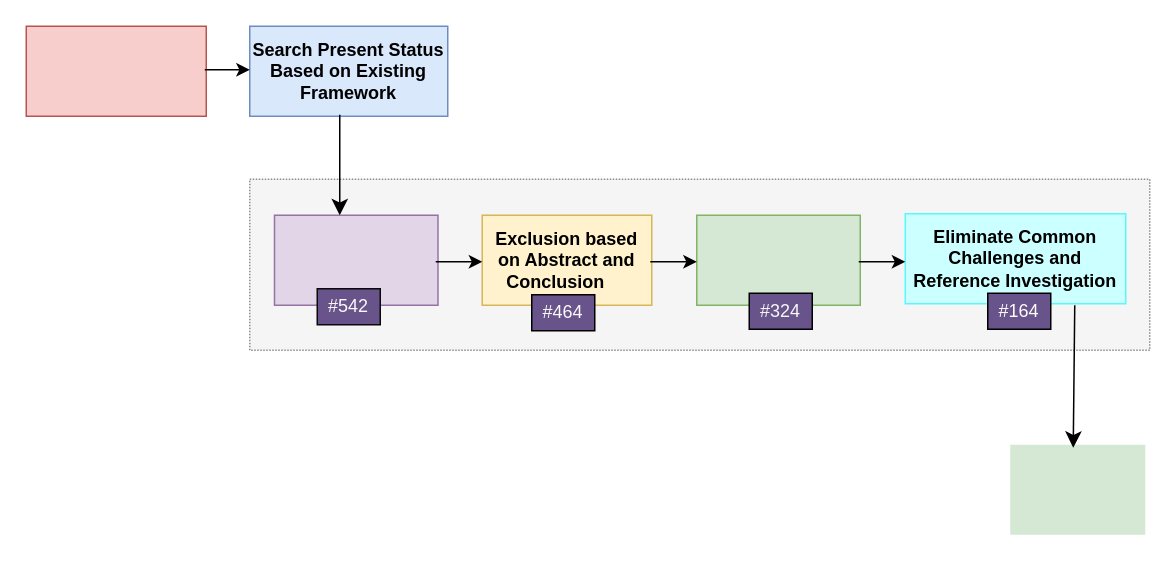
This 1176x561 diagram has some shape labels left out. The centre of each missing label's shape, as x and y in pixels:
"Define Search Keywords" goes at [115,70].
"Exclusion based on Full Text" goes at [777,259].
"Exclusion based on Tiles" goes at [355,259].
"Outline Research Areas" goes at [1077,489].
